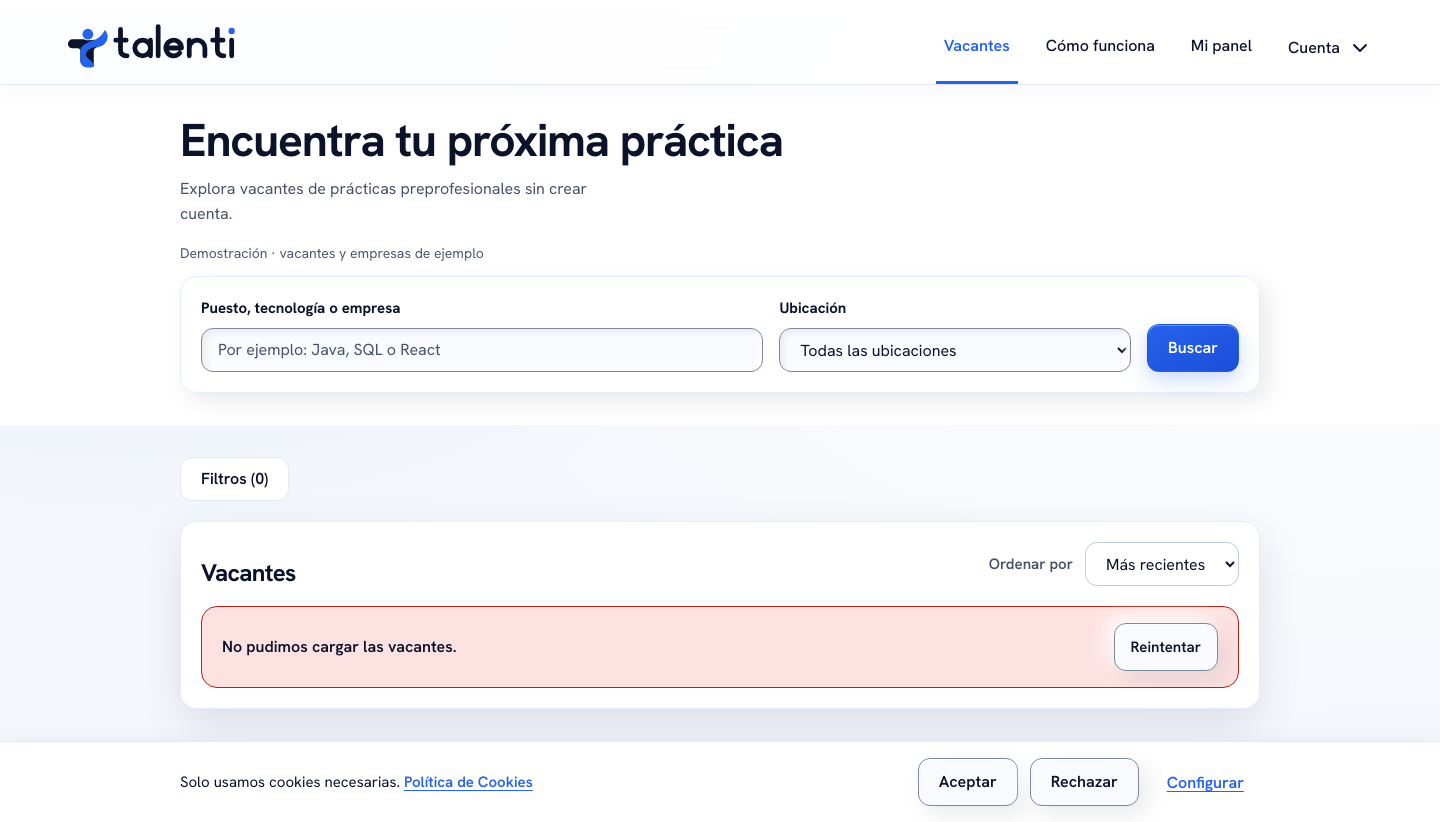
Test: A failed sign-out from the header is visible (M2) › shows a visible note (also an alert) and clears it on the next attempt
Check: the link "Mi panel" is shown, box [1191,35,1252,56]
What coordinates should you click on to do the following:
click the button "Cuenta"
I would click on:
 (1330, 48)
Its box is [1280,12,1380,84].
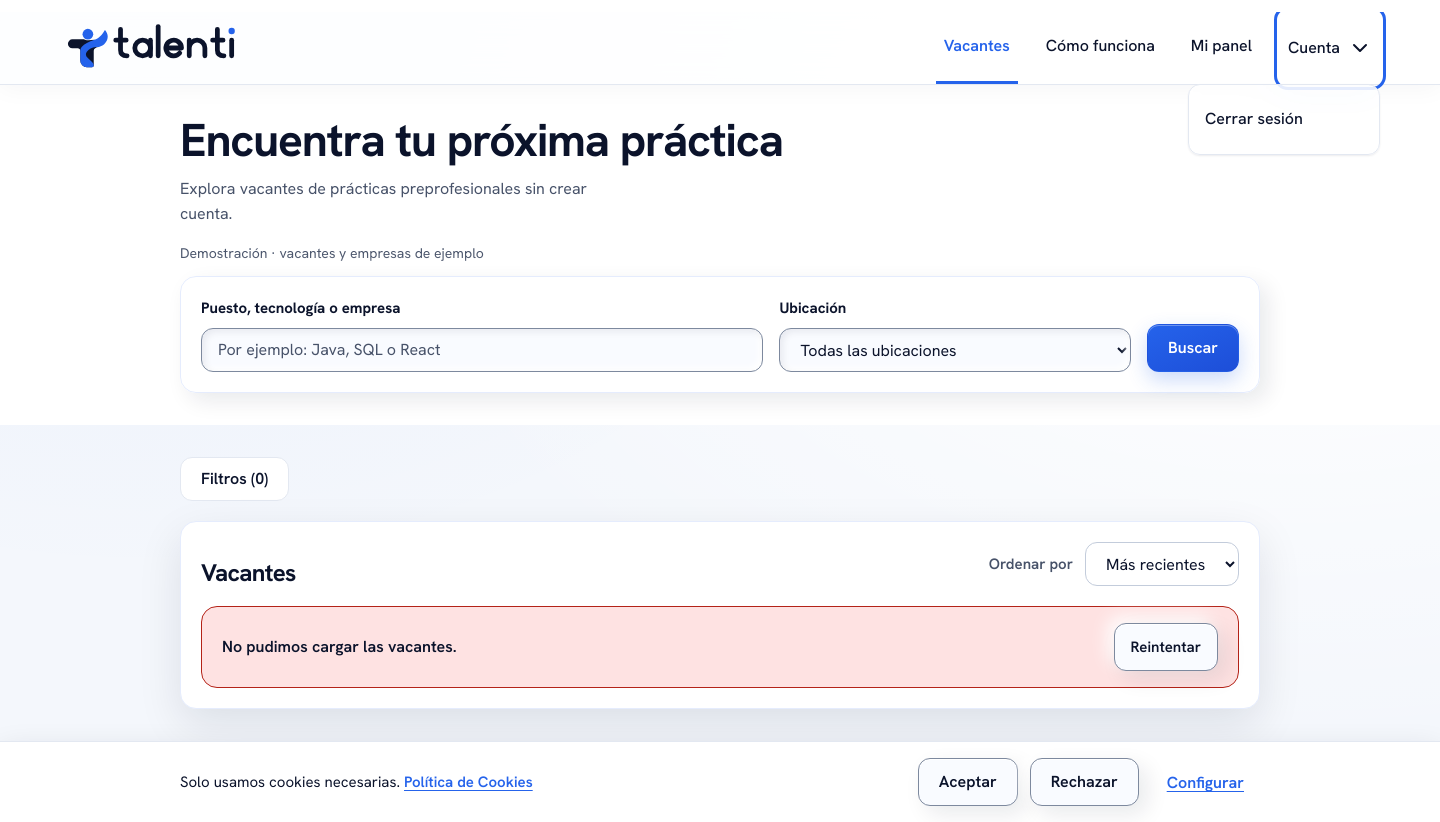
What coordinates should you click on to do the following:
click the button "Cerrar sesión"
I would click on:
 (1284, 119)
Its box is [1197,93,1371,146].
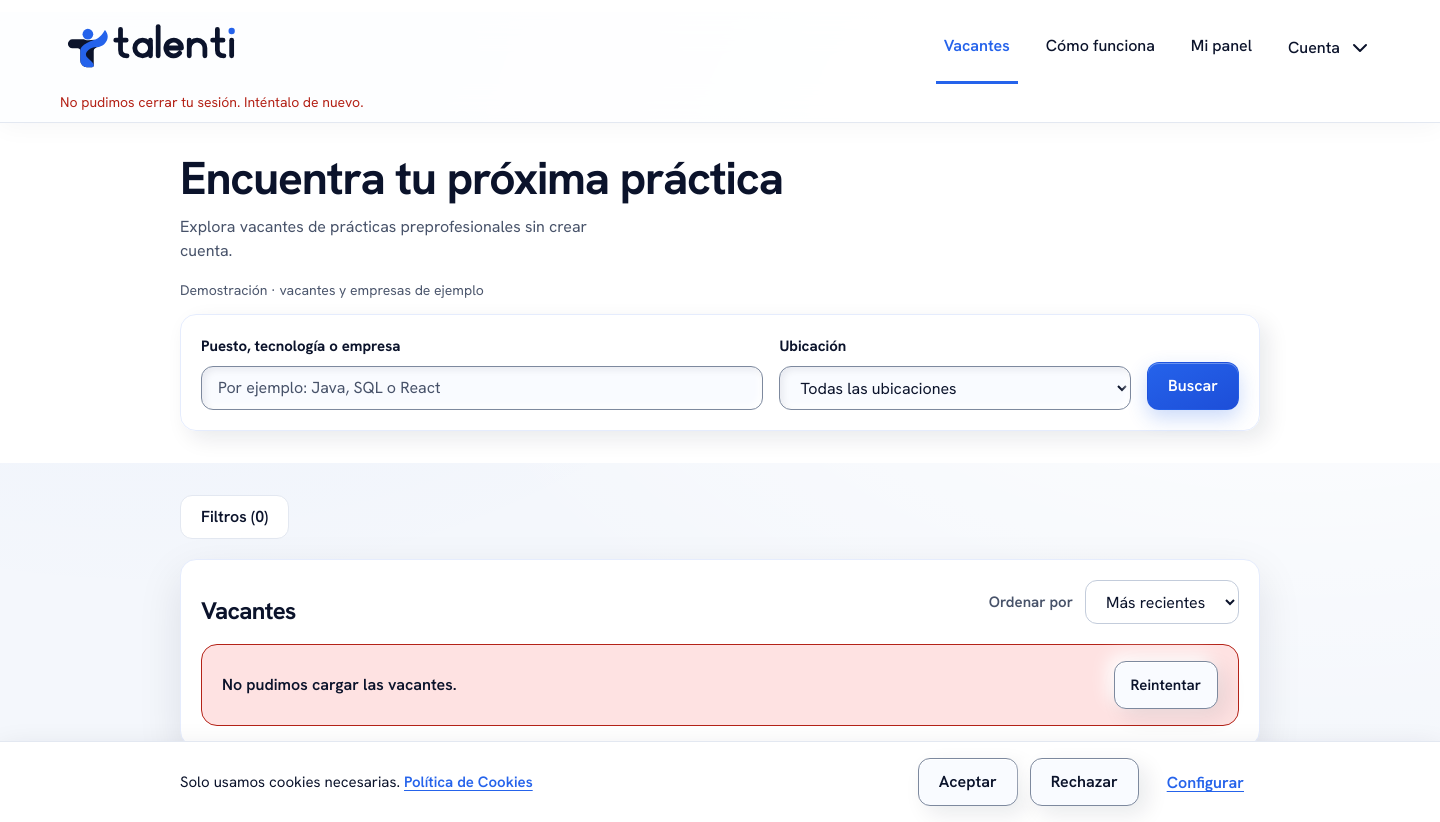
Check: the message "No pudimos cerrar tu sesión. Inténtalo de nuevo." is shown, box [60,93,364,111]
What coordinates should you click on to do the following:
click the button "Cuenta"
I would click on:
 (1330, 48)
Its box is [1280,12,1380,84].
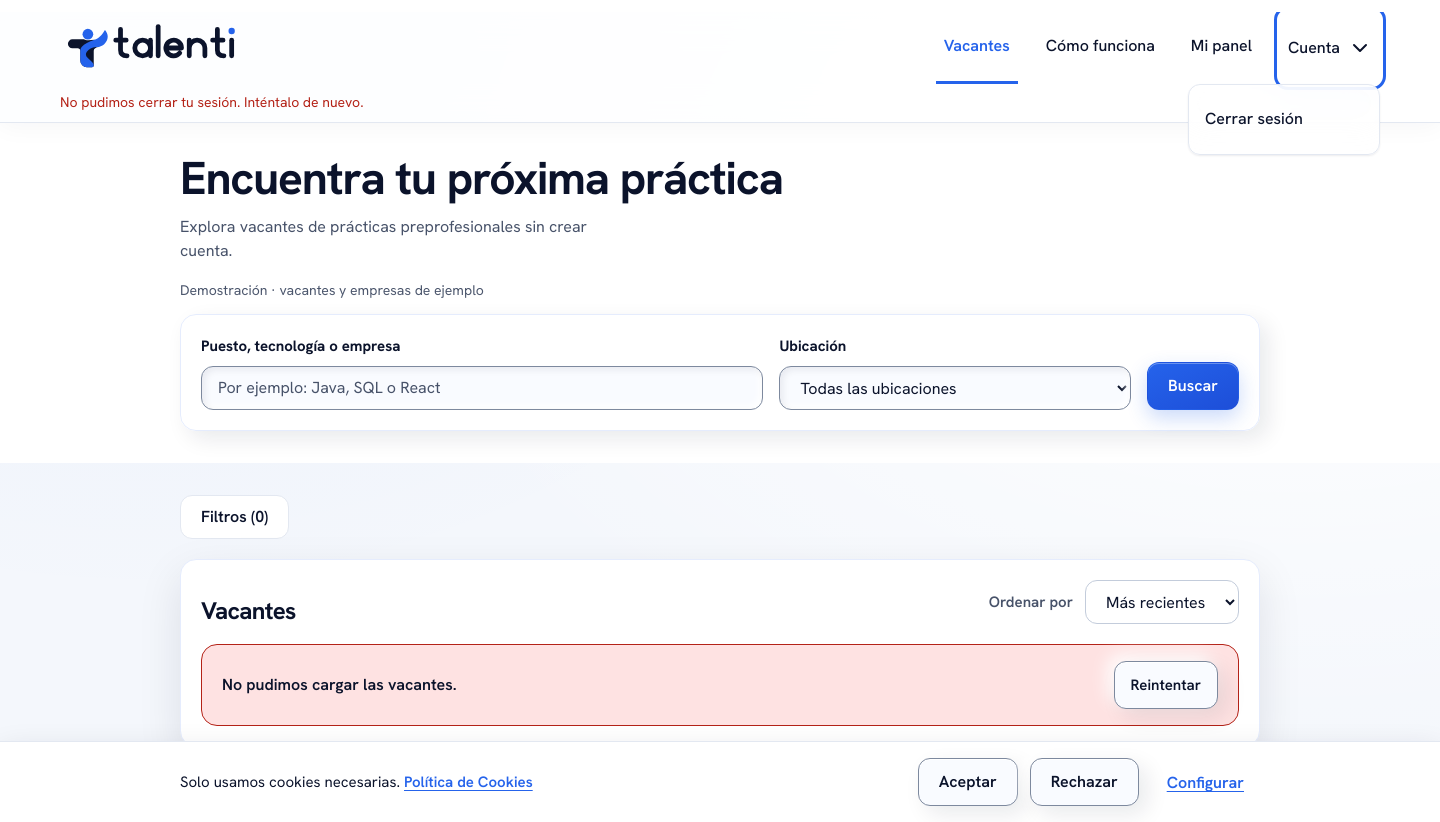
What coordinates should you click on to do the following:
click the button "Cerrar sesión"
I would click on:
 (1284, 119)
Its box is [1197,93,1371,146].
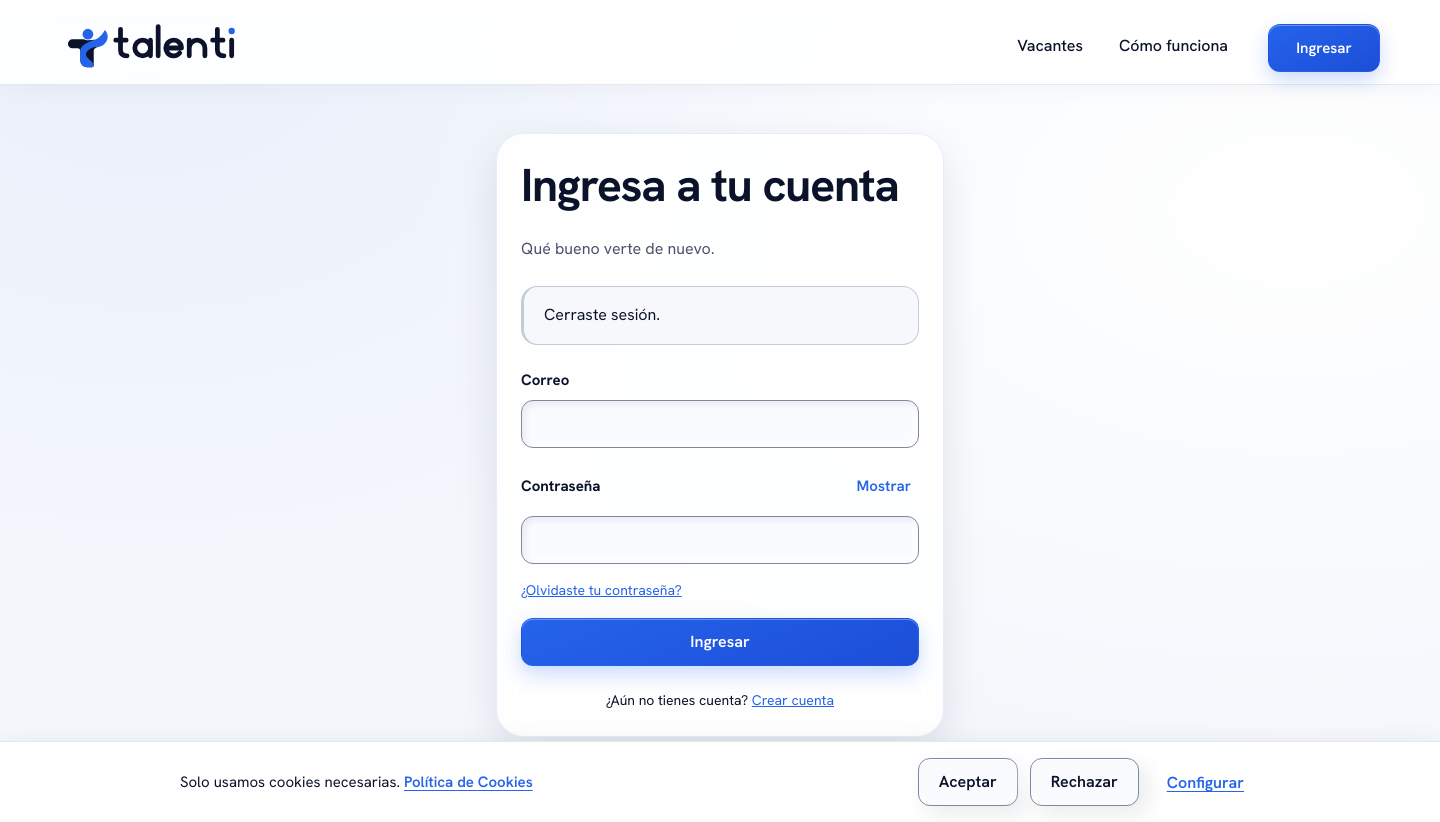
Check: the message "No pudimos cerrar tu sesión. Inténtalo de nuevo." is gone
